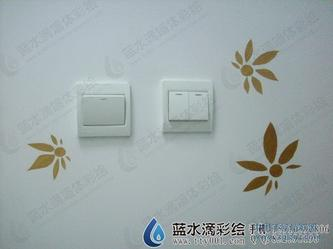switch: (79, 89, 127, 129), (166, 87, 193, 122), (186, 89, 211, 123)
